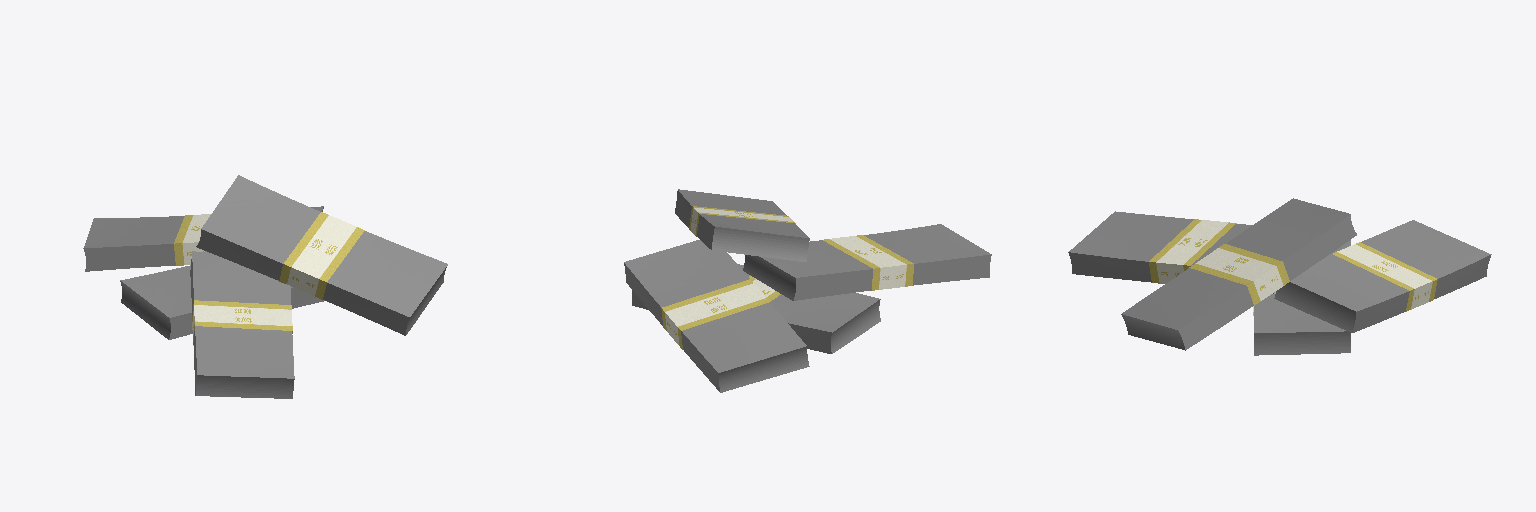
The picture shows the model from 3 angles: view 1: azimuth 30°, elevation 25°; view 2: azimuth 150°, elevation 25°; view 3: azimuth 270°, elevation 25°; orthographic projection.
Visible parts, largest first — view 1: Box007, Box005, Box003, Box002; view 2: Box003, Box005, Box007, Box002; view 3: Box007, Box003, Box005, Box002.
Boxes of the visible parts, <box> form: Box007: <box>196,175,447,335</box>; Box005: <box>190,251,294,398</box>; Box003: <box>83,206,323,271</box>; Box002: <box>120,265,324,339</box>; Box003: <box>624,240,809,392</box>; Box005: <box>743,224,991,300</box>; Box007: <box>675,189,809,261</box>; Box002: <box>632,264,880,353</box>; Box007: <box>1121,198,1356,350</box>; Box003: <box>1274,220,1491,332</box>; Box005: <box>1068,211,1274,293</box>; Box002: <box>1253,240,1350,355</box>.
Bounding box in the file's own units: 10.32 × 3.54 × 13.37.
5 materials, 1 textured.